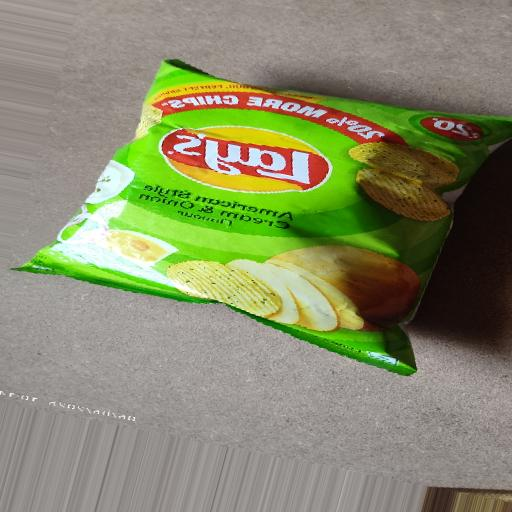Lays Green Small pack (American style cream and onion): (24, 49, 503, 382)
